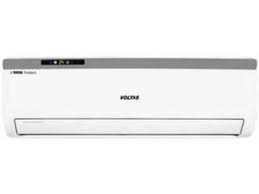ac: (1, 54, 258, 143)
